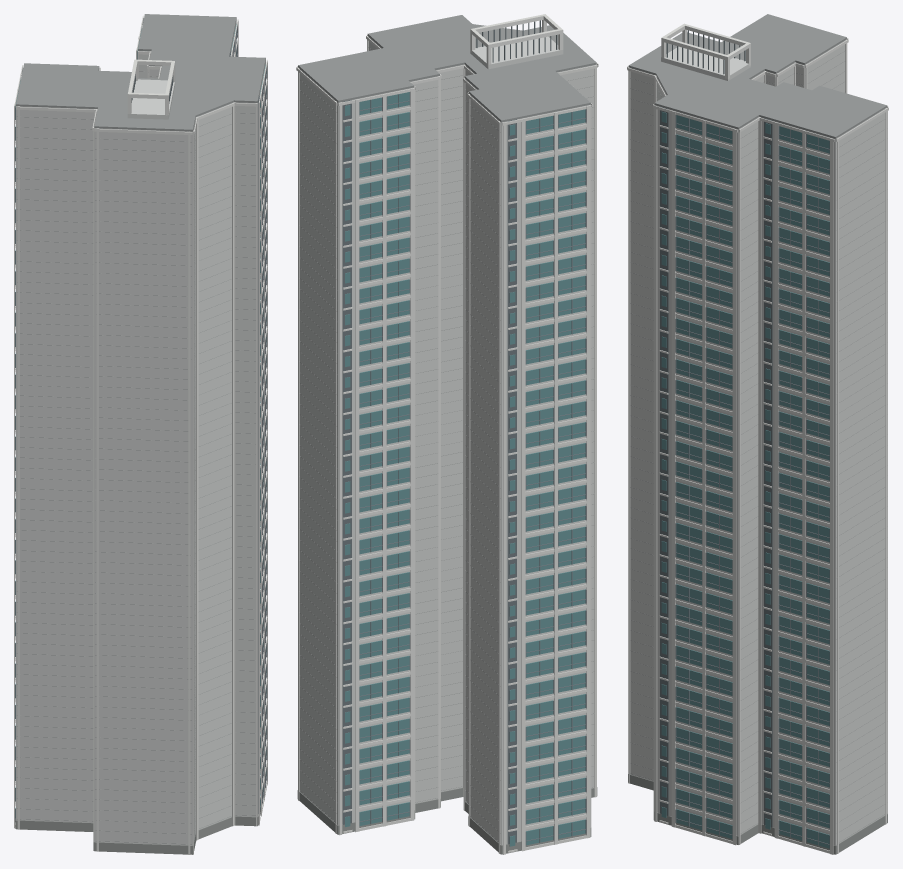
Rendered from bespoke-banpo-riche-106.glb.
3 views of the same model, side by side, from view 1: azimuth 30°, elevation 25°; view 2: azimuth 150°, elevation 25°; view 3: azimuth 270°, elevation 25° (orthographic). The views are drawn at different scales.
Parts seen in each view (by area): view 1: Riche106_editable_Riche106_light_grey_solid_wall, Riche106_editable_Riche106_modest_grey_flat_roof_caps, Riche106_editable_Riche106_broad_white_facade_frames, Riche106_editable_Riche106_dark_horizontal_spandrels_and_mul, Riche106_editable_Riche106_muted_ground_wall, Riche106_editable_Riche106_teal_rectangular_grouped_windows, Riche106_editable_Riche106_dark_recessed_service_strip; view 2: Riche106_editable_Riche106_light_grey_solid_wall, Riche106_editable_Riche106_broad_white_facade_frames, Riche106_editable_Riche106_teal_rectangular_grouped_windows, Riche106_editable_Riche106_modest_grey_flat_roof_caps, Riche106_editable_Riche106_dark_horizontal_spandrels_and_mul, Riche106_editable_Riche106_dark_recessed_service_strip, Riche106_editable_Riche106_muted_ground_wall; view 3: Riche106_editable_Riche106_light_grey_solid_wall, Riche106_editable_Riche106_teal_rectangular_grouped_windows, Riche106_editable_Riche106_broad_white_facade_frames, Riche106_editable_Riche106_modest_grey_flat_roof_caps, Riche106_editable_Riche106_dark_horizontal_spandrels_and_mul, Riche106_editable_Riche106_dark_recessed_service_strip, Riche106_editable_Riche106_muted_ground_wall.
Part boxes in pixels (left/top/right/bottom): Riche106_editable_Riche106_light_grey_solid_wall: left=16, top=19, right=265, bottom=845; Riche106_editable_Riche106_modest_grey_flat_roof_caps: left=16, top=14, right=265, bottom=844; Riche106_editable_Riche106_broad_white_facade_frames: left=14, top=15, right=267, bottom=854; Riche106_editable_Riche106_dark_horizontal_spandrels_and_mul: left=15, top=25, right=267, bottom=821; Riche106_editable_Riche106_muted_ground_wall: left=15, top=782, right=266, bottom=854; Riche106_editable_Riche106_teal_rectangular_grouped_windows: left=15, top=24, right=266, bottom=817; Riche106_editable_Riche106_dark_recessed_service_strip: left=22, top=18, right=259, bottom=813; Riche106_editable_Riche106_light_grey_solid_wall: left=298, top=36, right=595, bottom=845; Riche106_editable_Riche106_broad_white_facade_frames: left=296, top=14, right=598, bottom=854; Riche106_editable_Riche106_teal_rectangular_grouped_windows: left=345, top=92, right=585, bottom=846; Riche106_editable_Riche106_modest_grey_flat_roof_caps: left=298, top=15, right=596, bottom=841; Riche106_editable_Riche106_dark_horizontal_spandrels_and_mul: left=359, top=92, right=586, bottom=845; Riche106_editable_Riche106_dark_recessed_service_strip: left=342, top=20, right=557, bottom=844; Riche106_editable_Riche106_muted_ground_wall: left=297, top=787, right=597, bottom=854; Riche106_editable_Riche106_light_grey_solid_wall: left=630, top=39, right=887, bottom=845; Riche106_editable_Riche106_teal_rectangular_grouped_windows: left=661, top=112, right=829, bottom=848; Riche106_editable_Riche106_broad_white_facade_frames: left=627, top=23, right=888, bottom=854; Riche106_editable_Riche106_modest_grey_flat_roof_caps: left=628, top=14, right=887, bottom=842; Riche106_editable_Riche106_dark_horizontal_spandrels_and_mul: left=675, top=114, right=829, bottom=848; Riche106_editable_Riche106_dark_recessed_service_strip: left=660, top=30, right=772, bottom=827; Riche106_editable_Riche106_muted_ground_wall: left=628, top=774, right=887, bottom=854.
Bounding box in the file's own units: 36.23 × 101 × 32.22.
